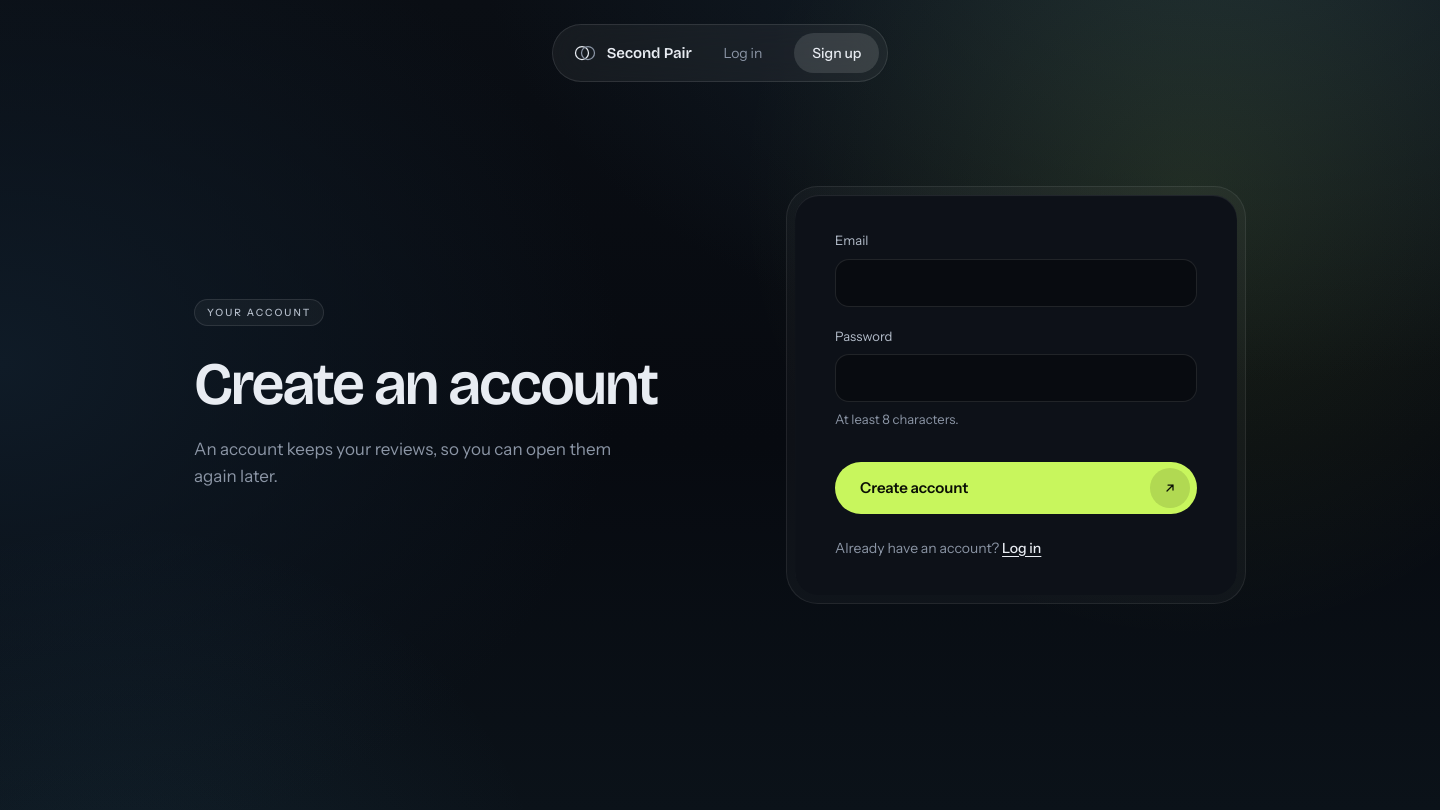
Test: AuthPage › shows the backend validation messages next to their fields
This screenshot has width=1440, height=810.
Type "ana@example.com" into the field labelled "Email" at (1016, 282), box x1=835 y1=258 x2=1197 y2=306
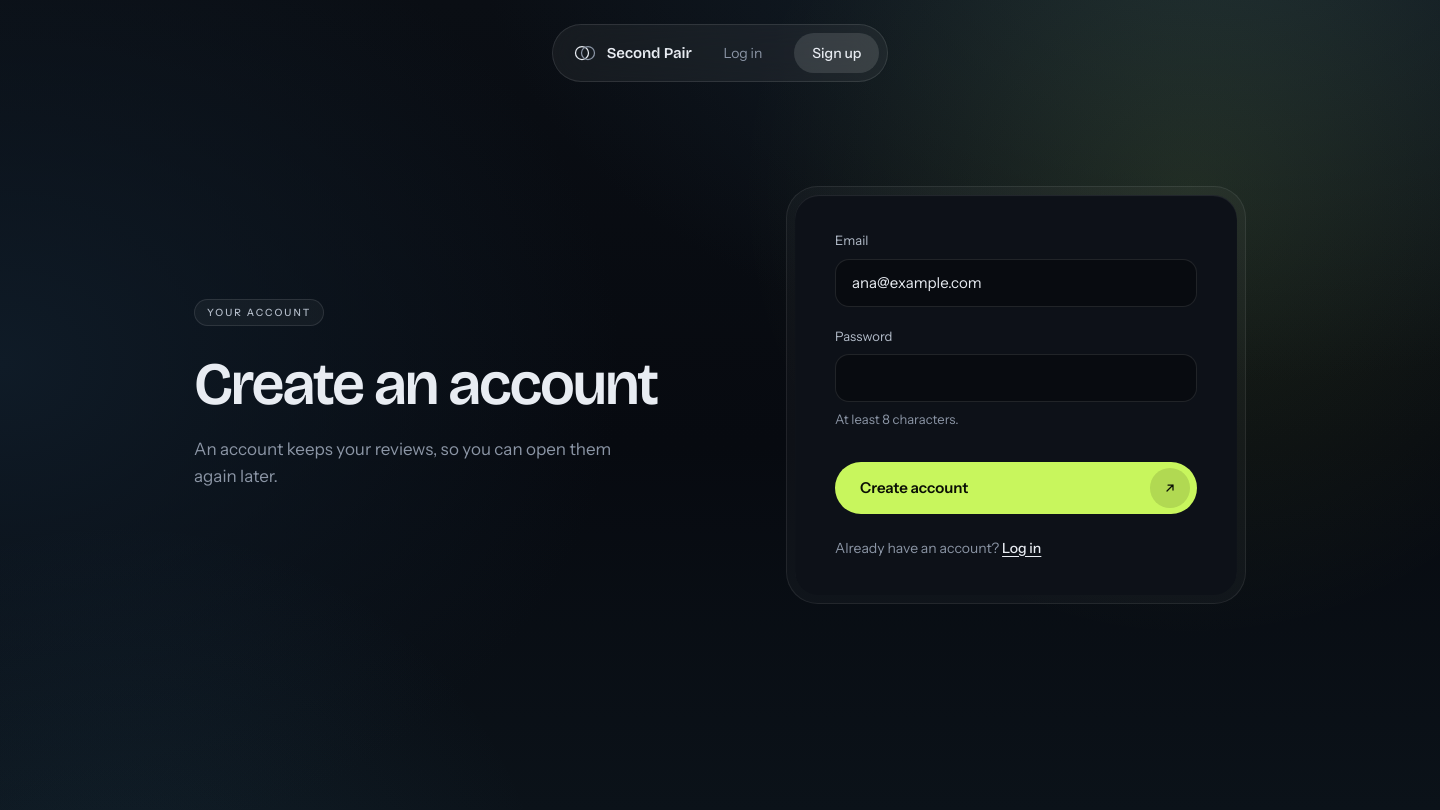
Type "short" into the password field labelled "Password" at (1016, 378), box x1=835 y1=354 x2=1197 y2=402
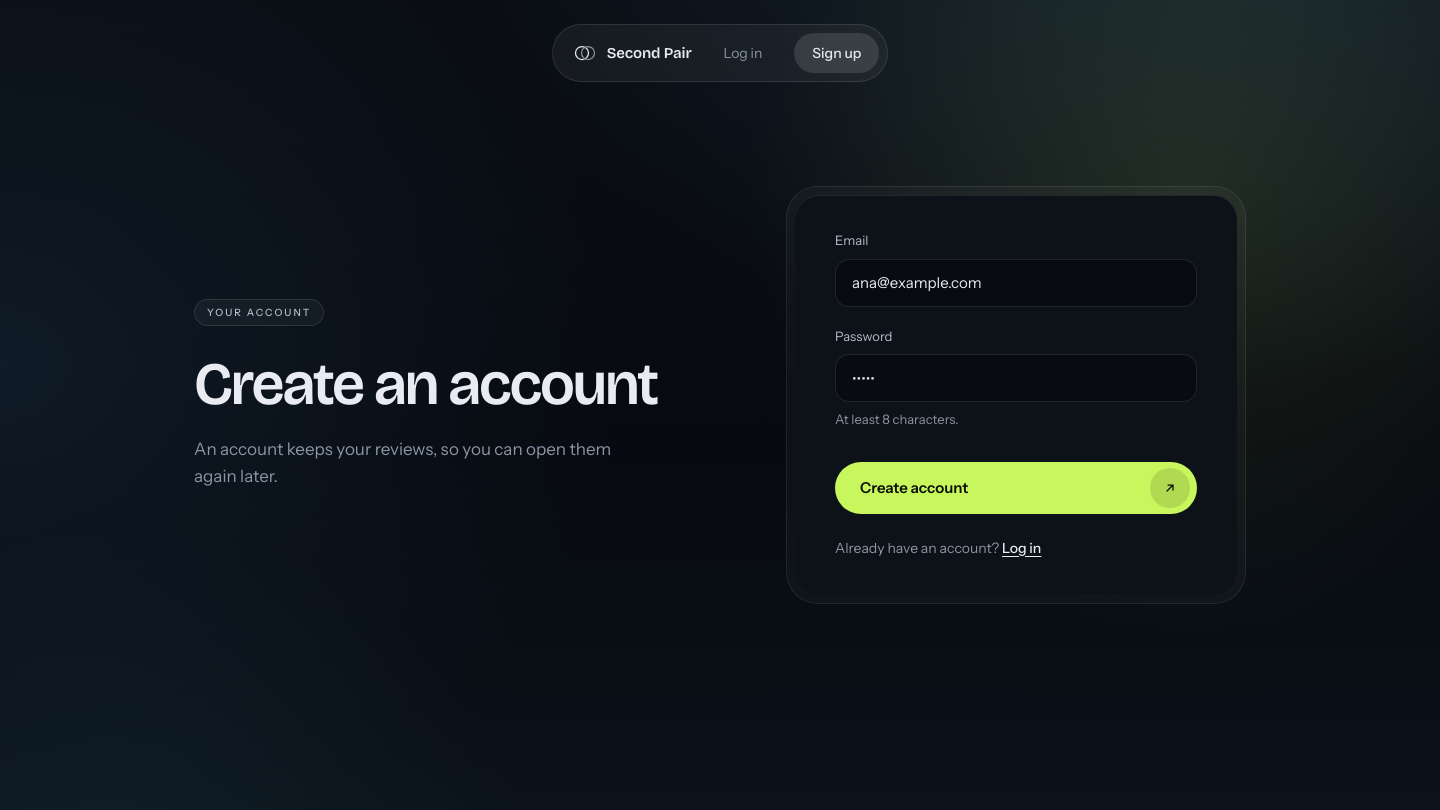
Click the button "Create account" at (914, 488), box x1=835 y1=462 x2=1197 y2=514
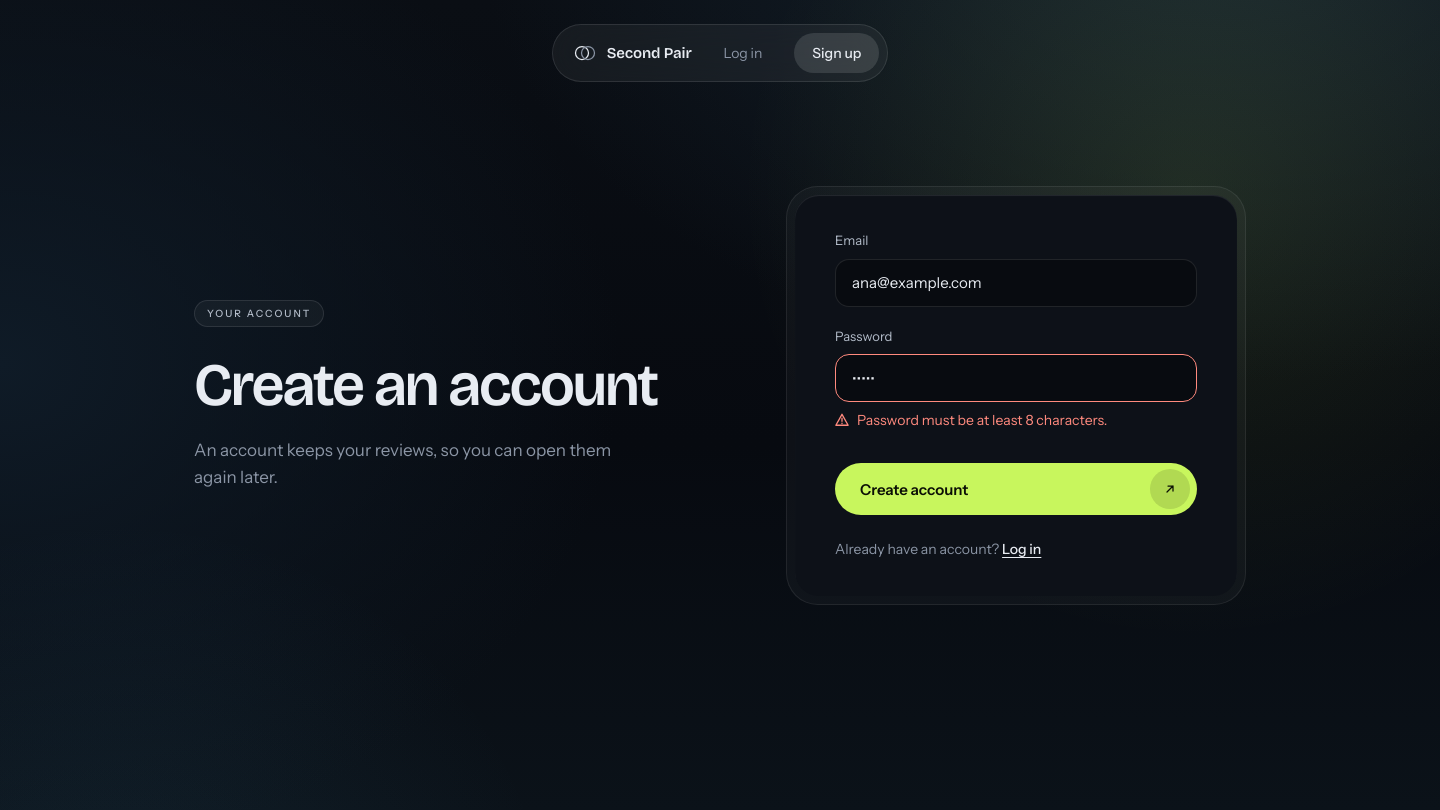
Check: the text "Password must be at least 8 characters." is shown, box x1=835 y1=411 x2=1107 y2=429
